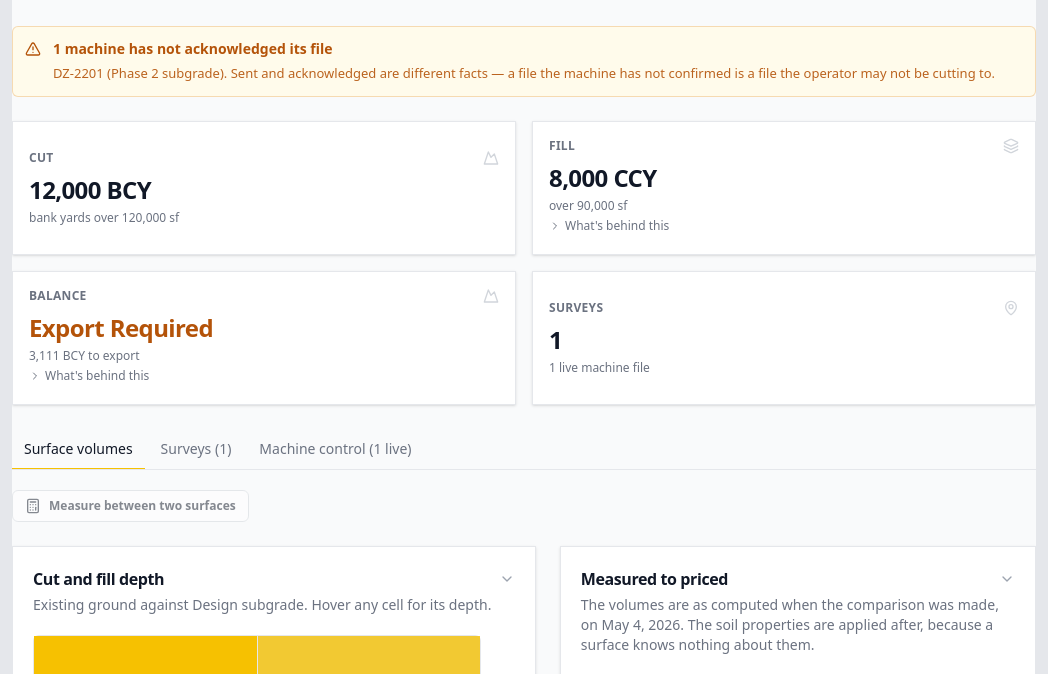
Test: the captures › shows both datums, because a volume across two of them is wrong by the offset
Click the tab "Surveys (1)" at (196, 449), box [149, 429, 243, 469]
(page scrolled)
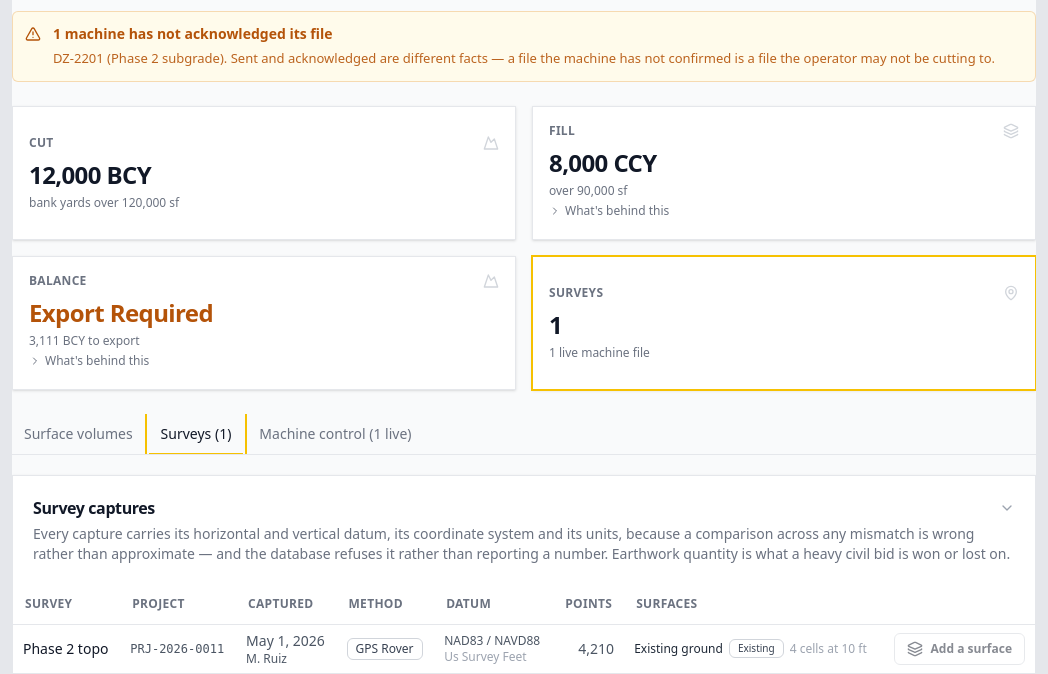
Expected: the text "NAD83 / NAVD88" is shown, [434, 624, 552, 673]
